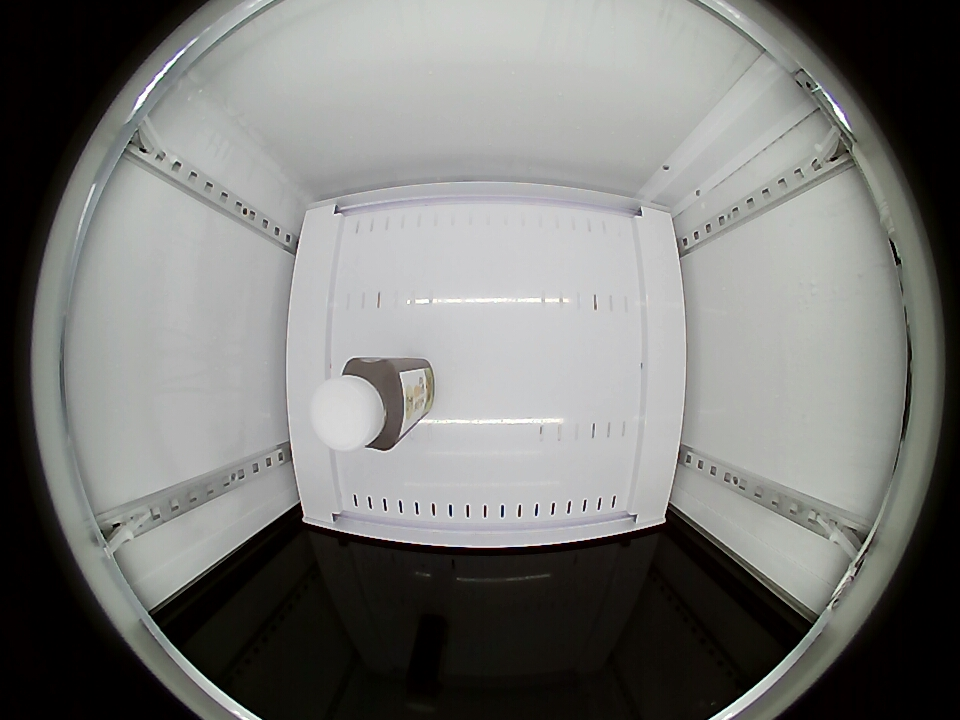youyanggudong: (312, 358, 408, 453)
